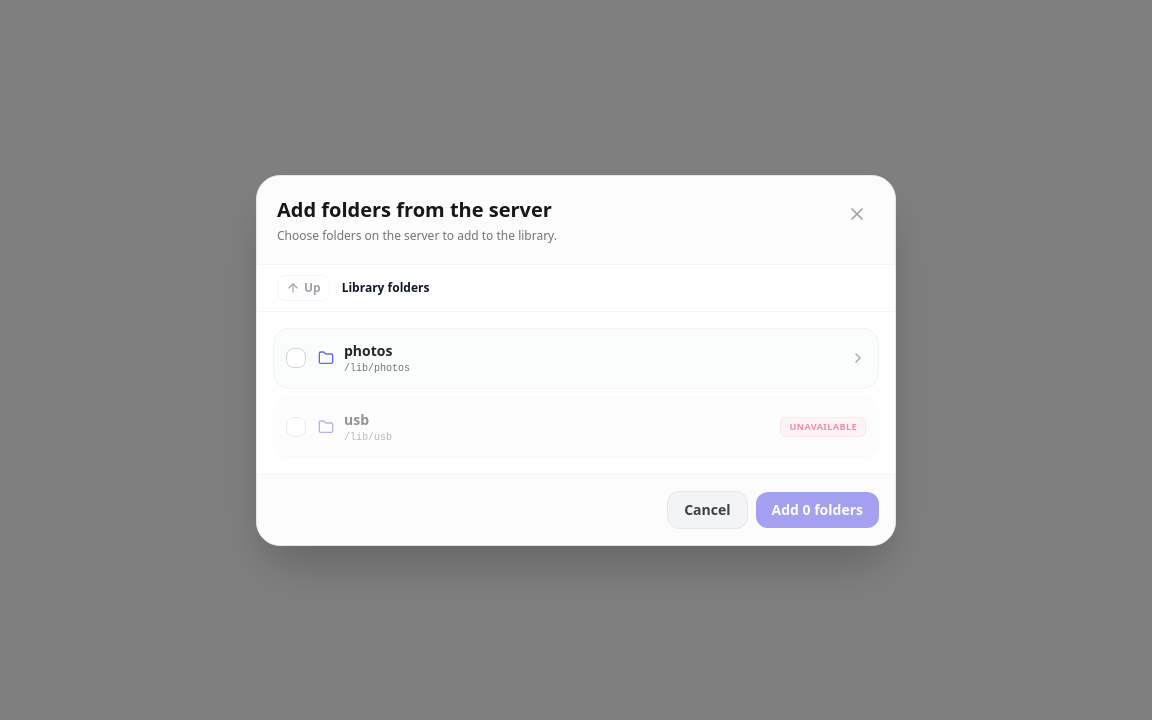
Test: FolderPickerModal › says when a folder has no subfolders
Click the button with aria-label "Open photos" at (368, 350), box [318,340,866,376]
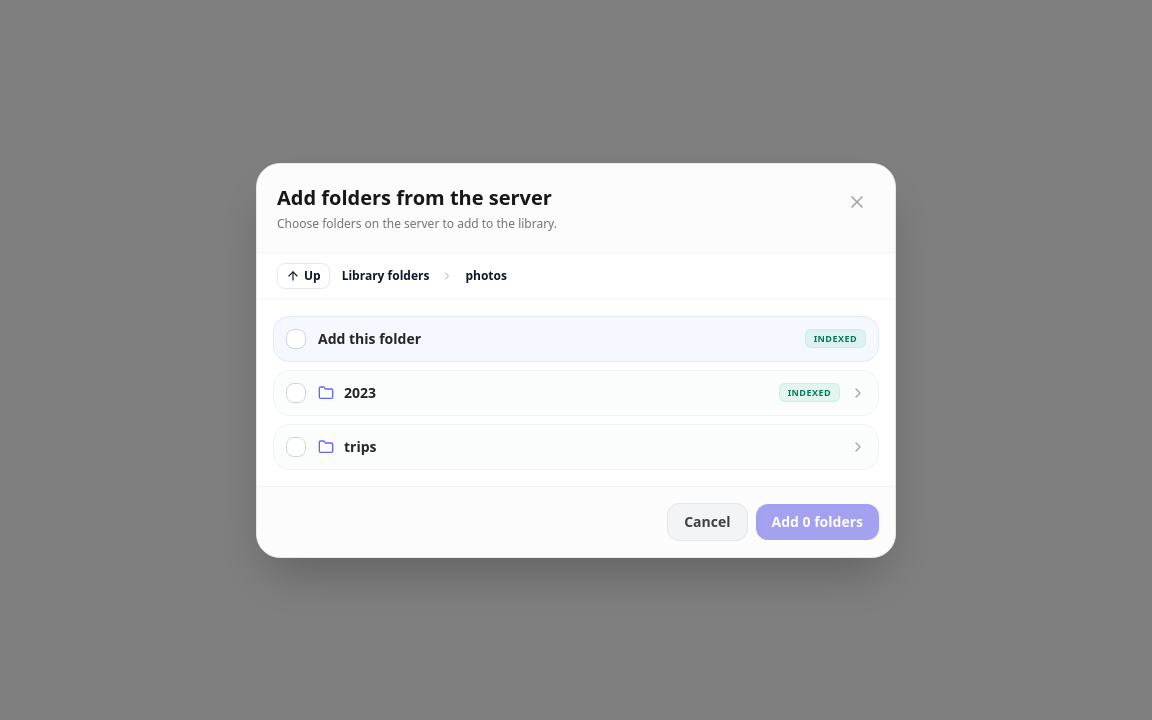
Click the button with aria-label "Open 2023" at (360, 392), box [318,382,866,402]
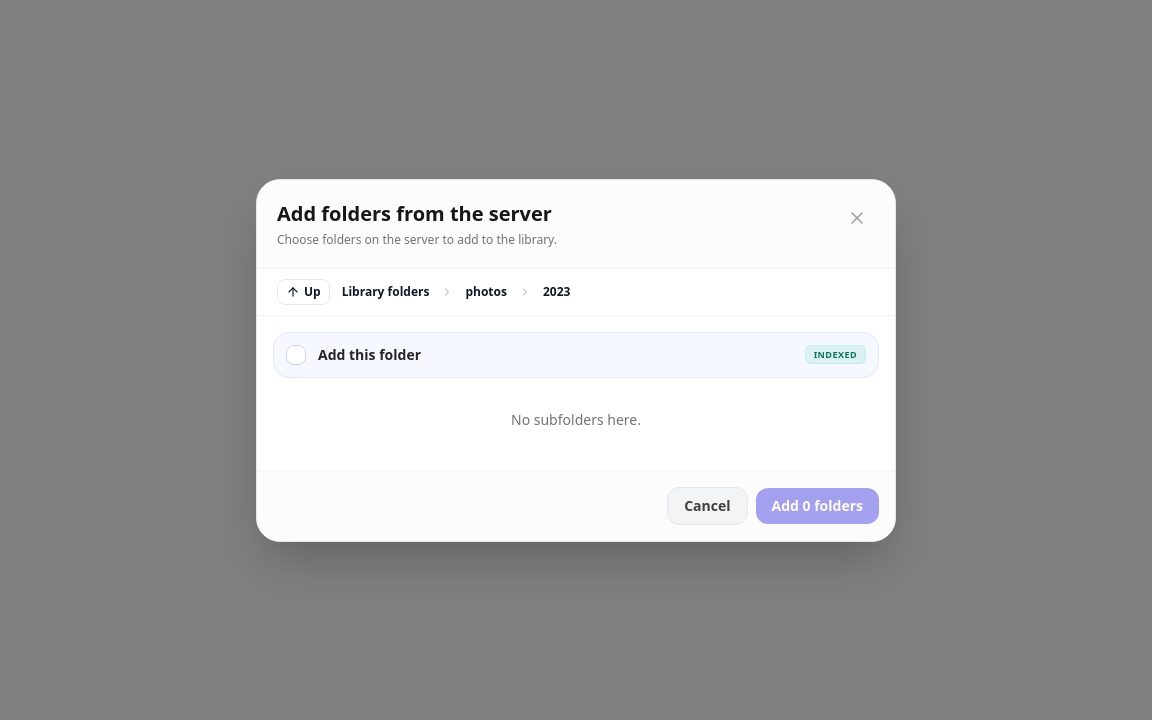
Result: the text "No subfolders here." is shown at [511,410,641,428]
